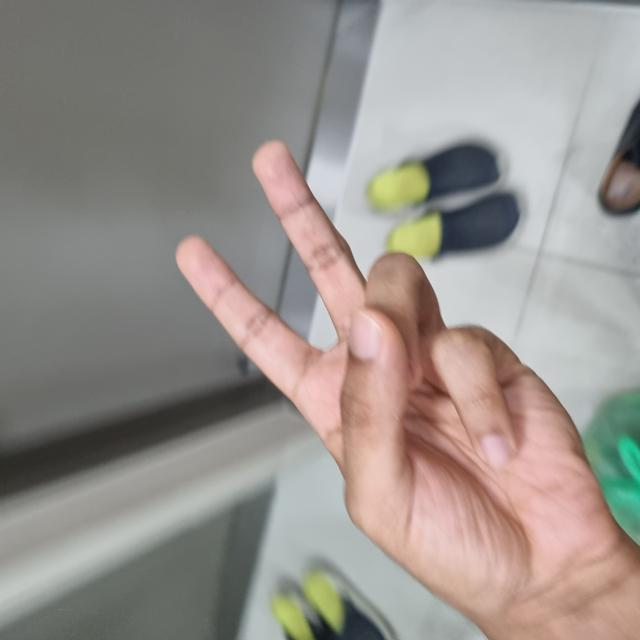Scissors: (5, 178, 493, 636)
